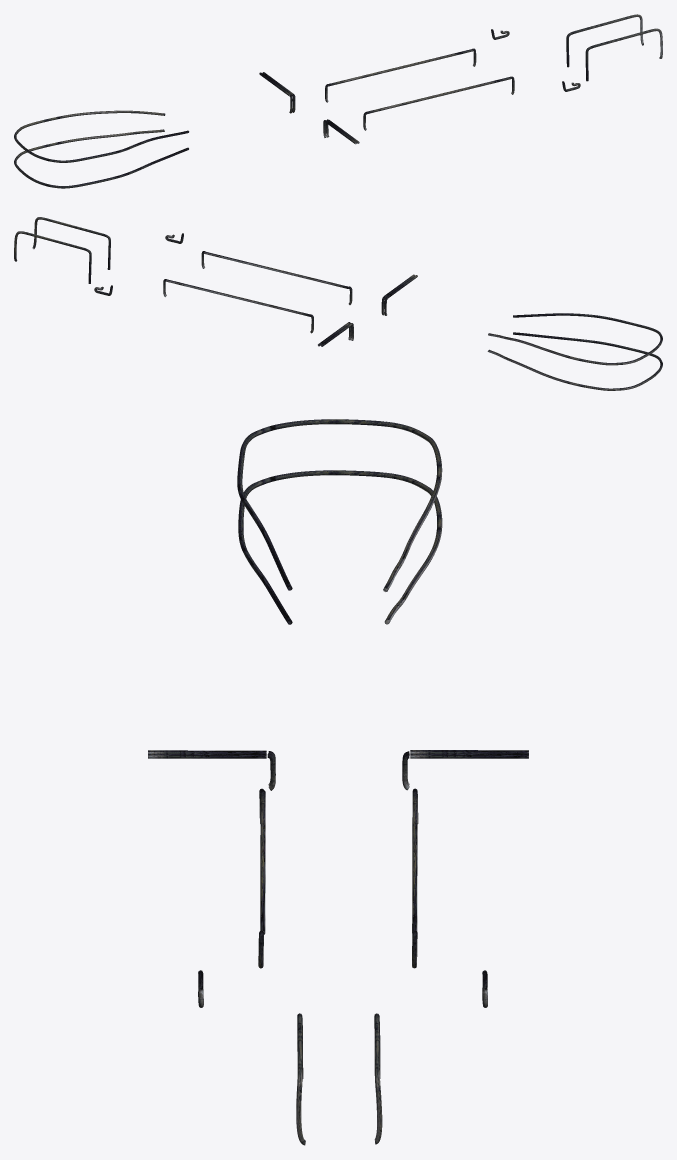
Rendered from pipes.glb.
3 renders of one model, top to bottom at view 1: azimuth 30°, elevation 25°; view 2: azimuth 150°, elevation 25°; view 3: azimuth 270°, elevation 25°, orthographic. The views are drawn at different scales.
Visible parts, largest first — view 1: BézierCurve.022; view 2: BézierCurve.022; view 3: BézierCurve.022.
Boxes of the visible parts, bbox=[...] form: BézierCurve.022: bbox=[14, 14, 662, 188]; BézierCurve.022: bbox=[14, 217, 662, 390]; BézierCurve.022: bbox=[148, 419, 528, 1145].
Size of the model in its own units: 241 by 22.09 by 63.22.
Materials: 1 (1 with a texture image).
